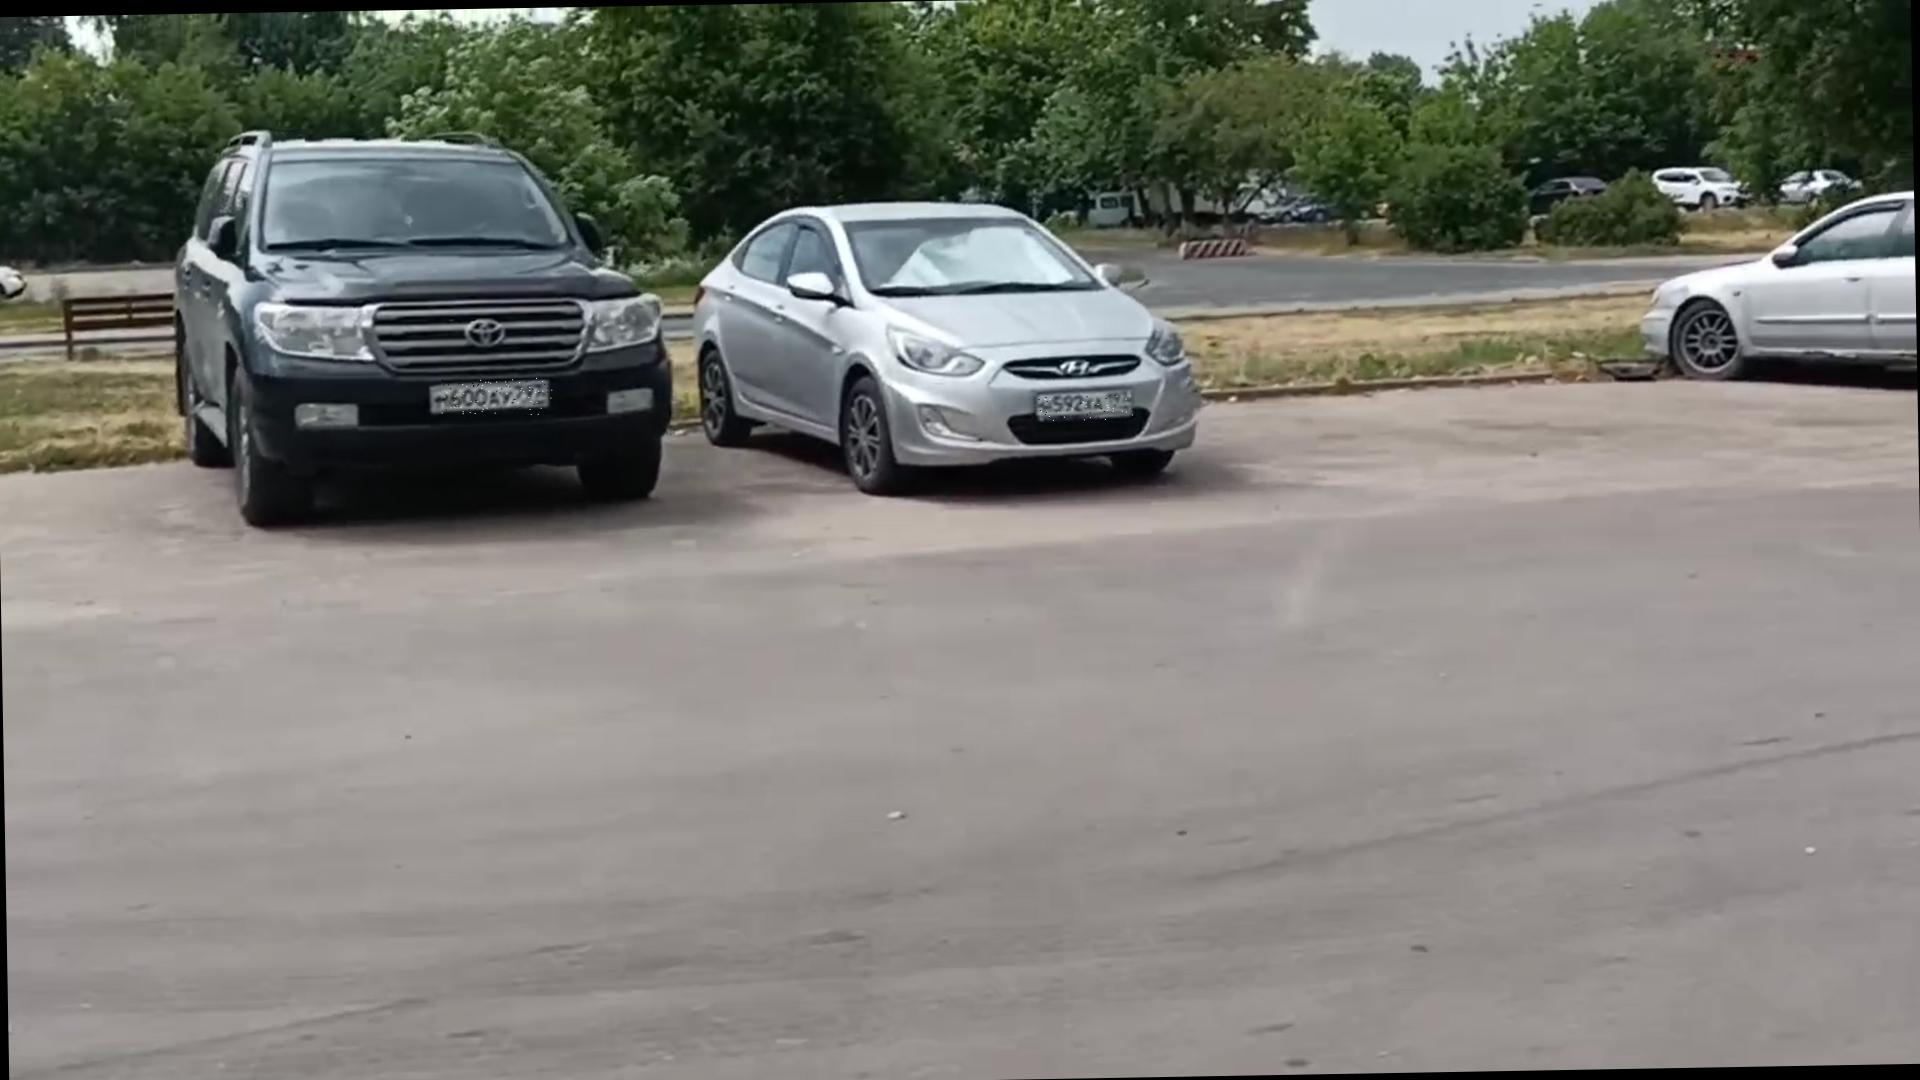plate: (443, 379, 555, 419), (1040, 395, 1135, 422)
